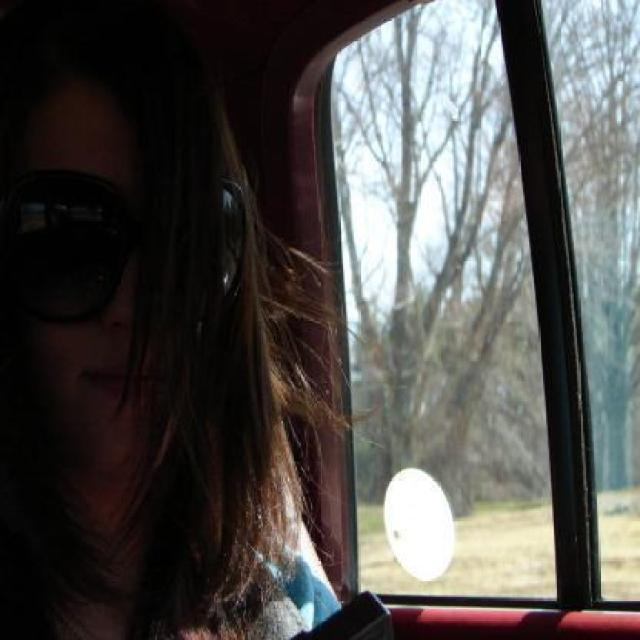face_nomask: (0, 180, 243, 426)
glasses: (0, 174, 249, 328)
